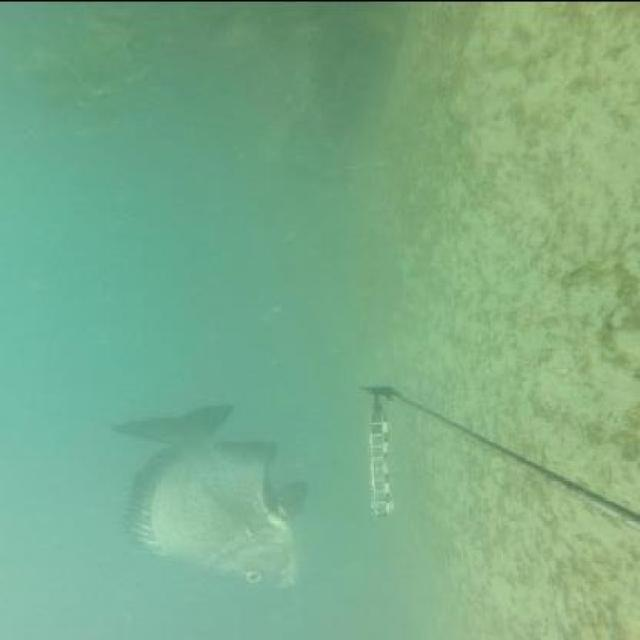acanthopagrus_palmaris: (103, 398, 312, 588)
